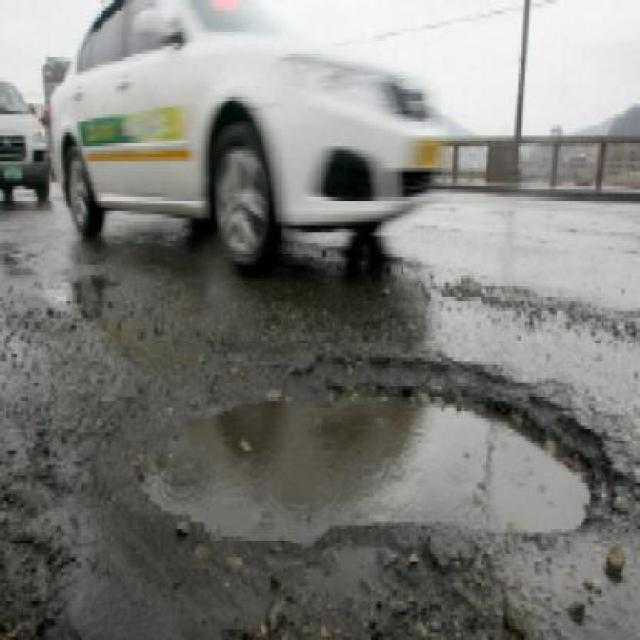Pothole: (121, 350, 618, 565)
